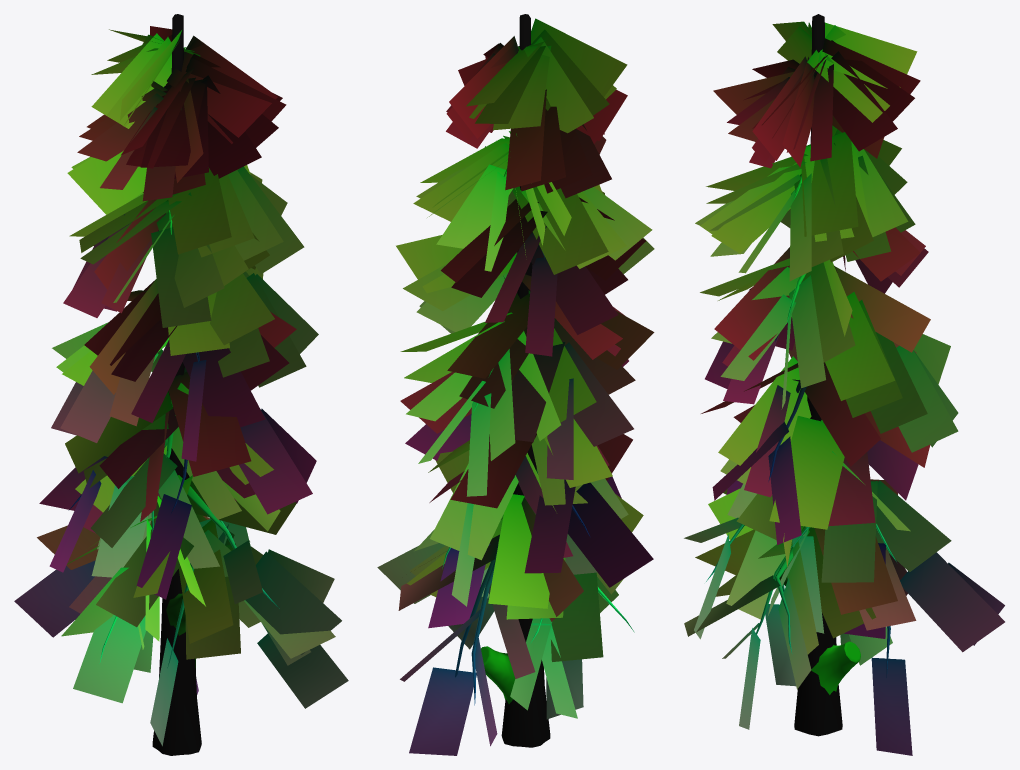
File: M_Pine_3_5.fbx
The picture shows the model from 3 angles, left to right: view 1: azimuth 30°, elevation 25°; view 2: azimuth 150°, elevation 25°; view 3: azimuth 270°, elevation 25°; orthographic projection. The views are drawn at different scales.
Visible parts, largest first — view 1: Tree_5; view 2: Tree_5; view 3: Tree_5.
Boxes of the visible parts, box(x1,y1,x2,y2) form: Tree_5: box(14, 14, 348, 755); Tree_5: box(377, 14, 654, 755); Tree_5: box(684, 14, 1004, 755).
Bounding box in the file's own units: 1497 × 3736 × 1520.
